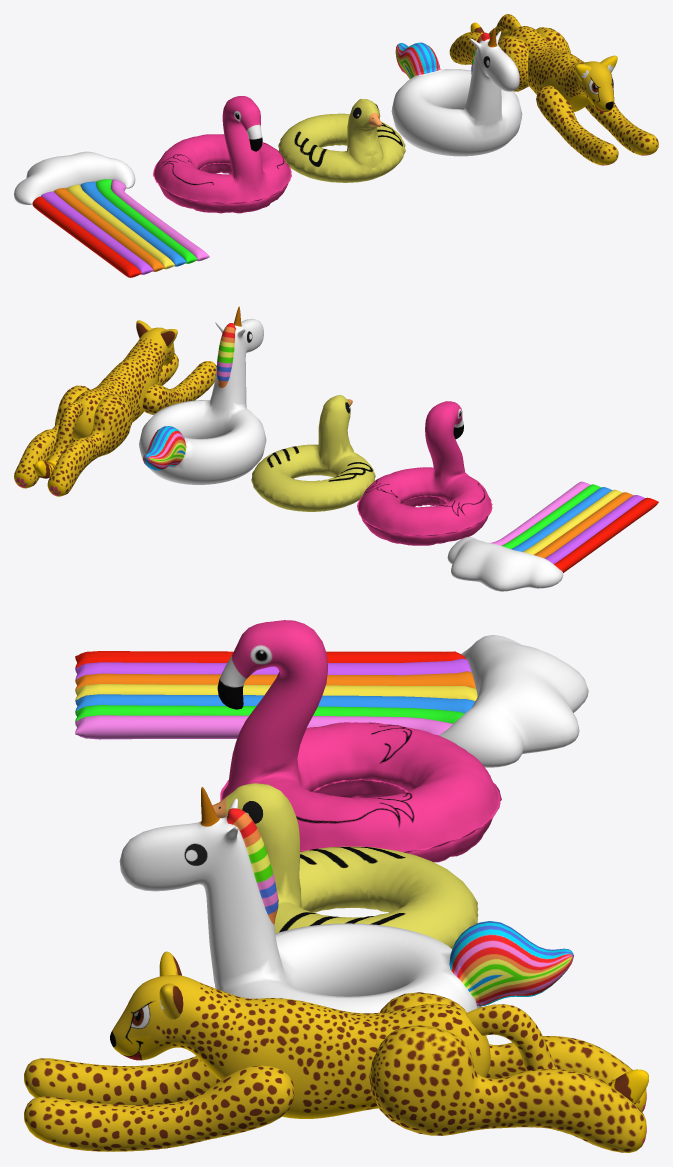
File: Floaty Pack.obj
3 renders of one model, top to bottom at view 1: azimuth 30°, elevation 25°; view 2: azimuth 150°, elevation 25°; view 3: azimuth 270°, elevation 25°, orthographic. The views are drawn at different scales.
Visible parts, largest first — view 1: Floaty_Pack; view 2: Floaty_Pack; view 3: Floaty_Pack.
Part boxes in pixels (box(x1,y1,x2,y2)): Floaty_Pack: box(14, 14, 658, 277); Floaty_Pack: box(14, 306, 658, 591); Floaty_Pack: box(24, 620, 648, 1152).
Size of the model in its own units: 206 by 50.07 by 108.
